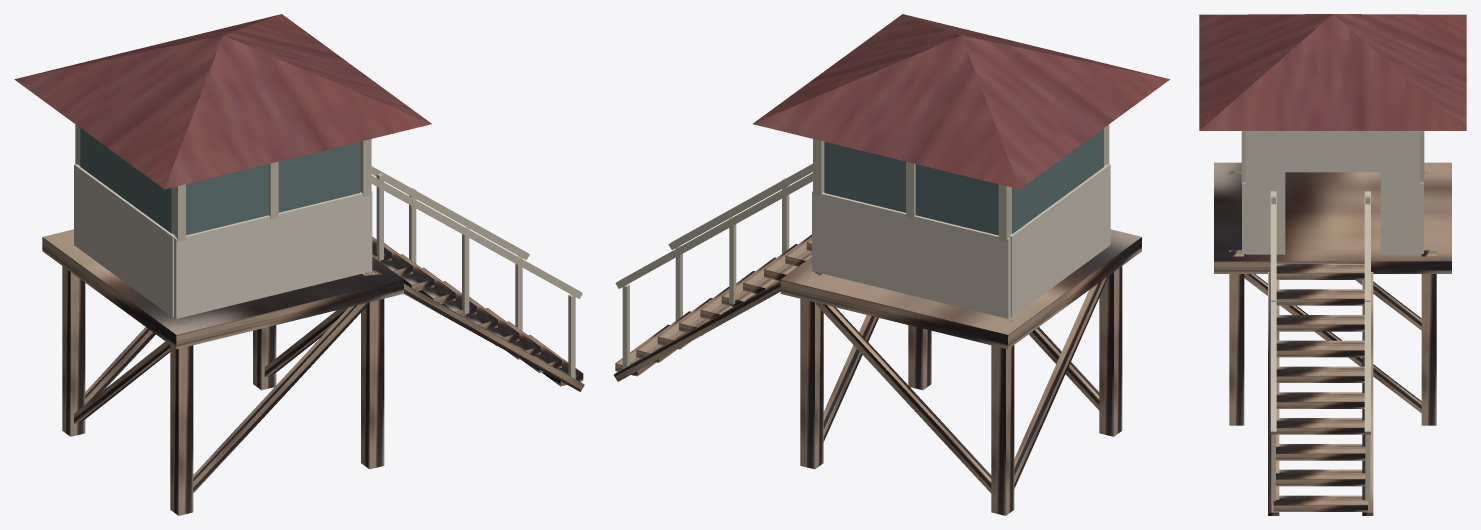
File: rescue-hut.glb
The picture shows the model from 3 angles, left to right: view 1: azimuth 30°, elevation 25°; view 2: azimuth 150°, elevation 25°; view 3: azimuth 270°, elevation 25°; orthographic projection. The views are drawn at different scales.
Bounding box in the file's own units: 5.02 × 4.3 × 2.84.
Materials: 1 (1 with a texture image).
